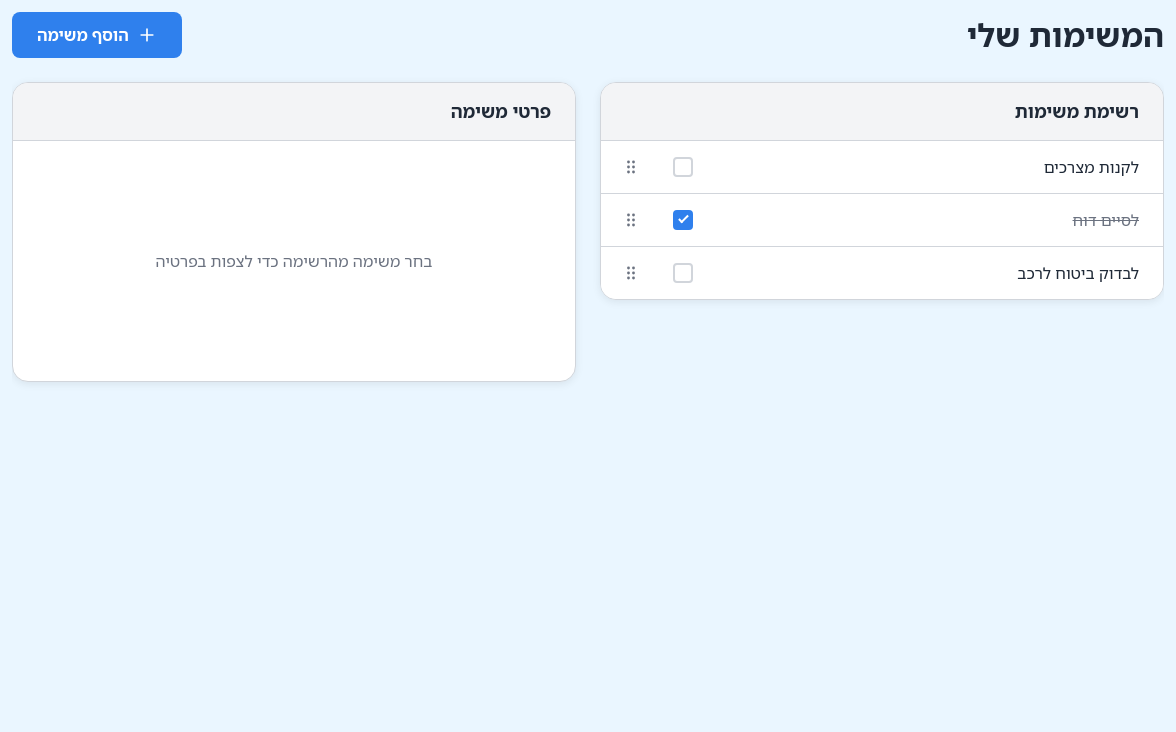
Scenario: HomePage › saving updates the row text and keeps status and position
Click the button "לקנות מצרכים" at (1091, 167), box [713,141,1163,193]
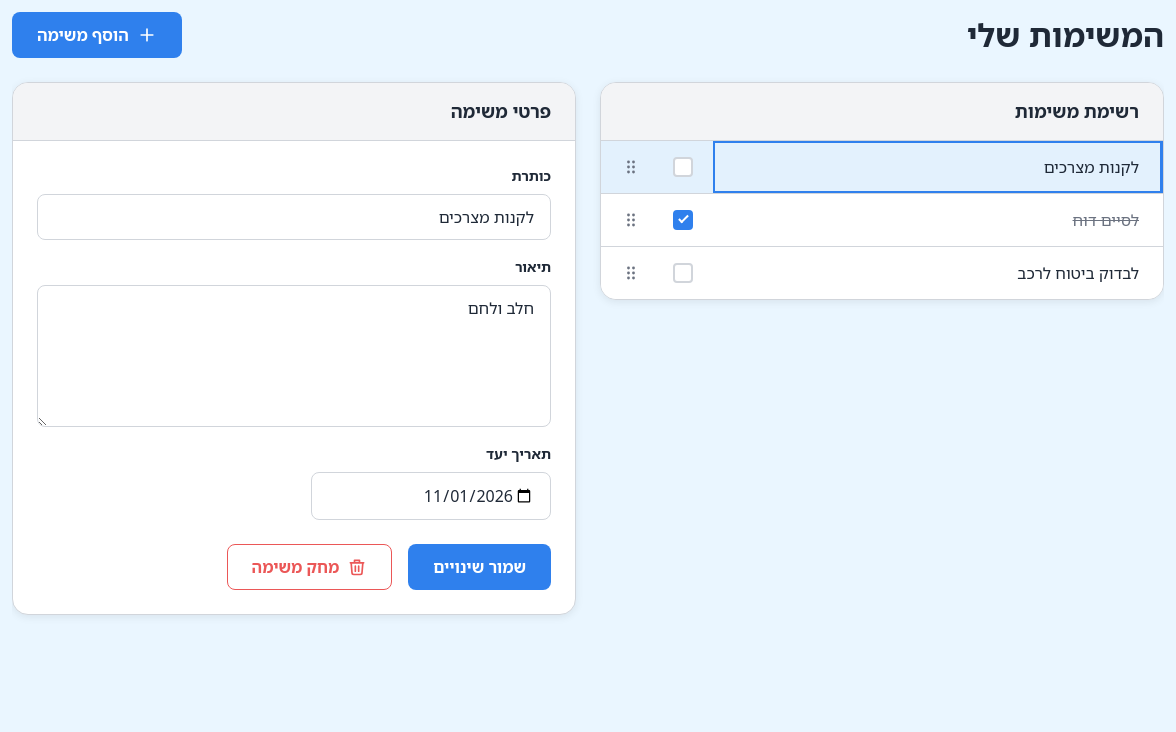
Replace the text in the field labelled "כותרת" with "לקנות ירקות" at (294, 217), box [37,194,551,240]
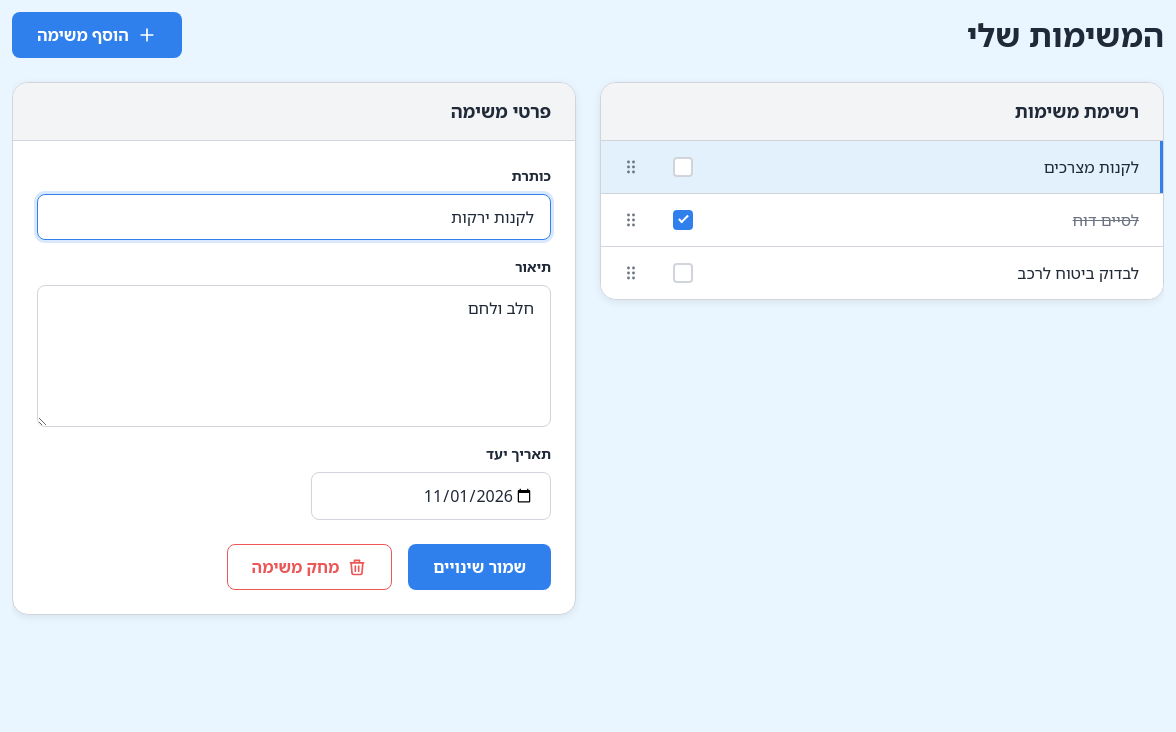
Click the button "שמור שינויים" at (480, 567), box [408,544,551,590]
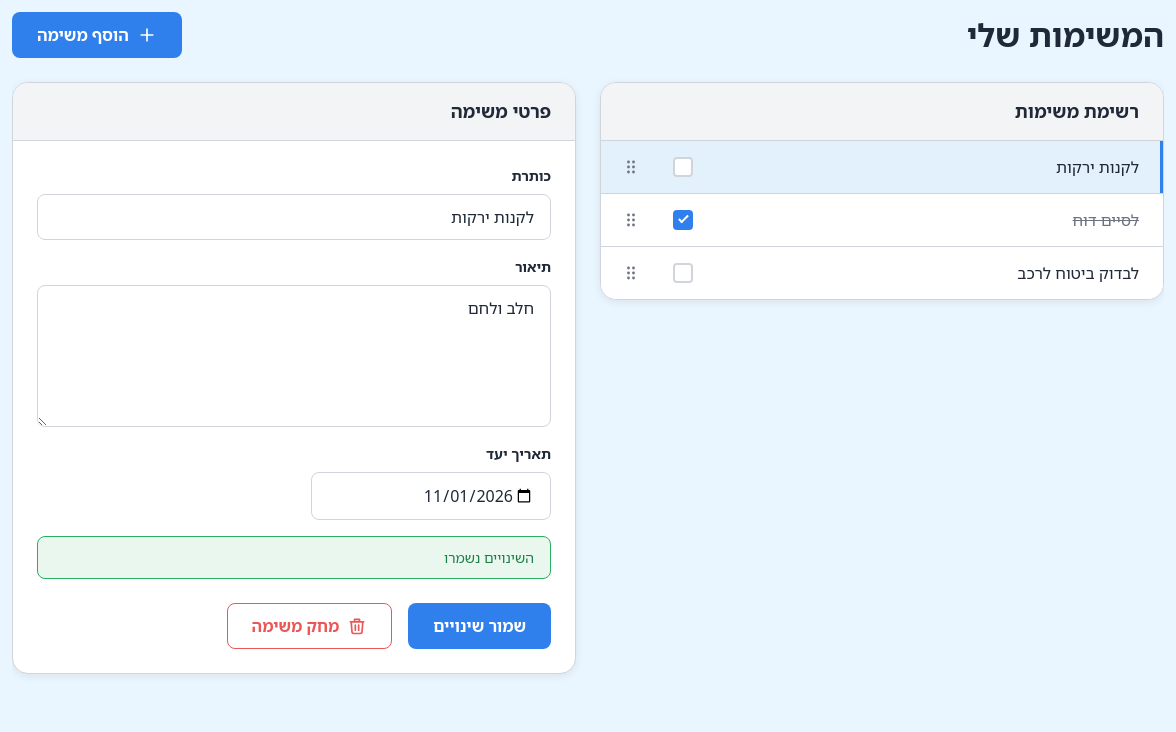
Now the text "השינויים נשמרו" is shown, box [37,536,551,579]
Now the list item "לקנות ירקות" is shown, box [601,141,1163,193]
